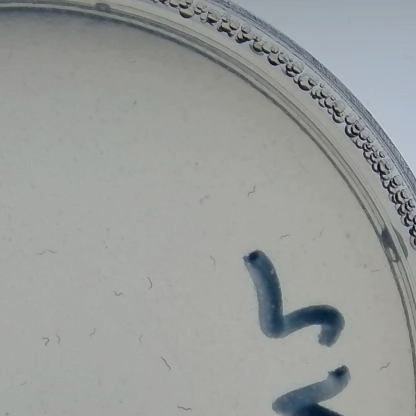worm: (358, 257, 386, 276), (32, 245, 65, 261), (154, 354, 176, 373), (81, 321, 103, 338), (129, 327, 148, 345), (170, 397, 192, 412), (143, 273, 157, 294), (373, 357, 392, 372), (205, 254, 222, 270), (38, 332, 54, 348), (194, 194, 217, 205), (54, 329, 65, 351), (273, 228, 293, 240), (110, 284, 123, 301), (243, 184, 258, 198), (312, 224, 328, 237)
